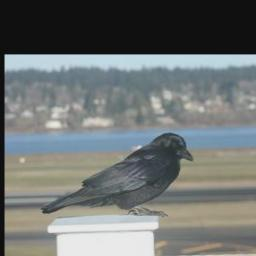Crow: (39, 131, 194, 216)
